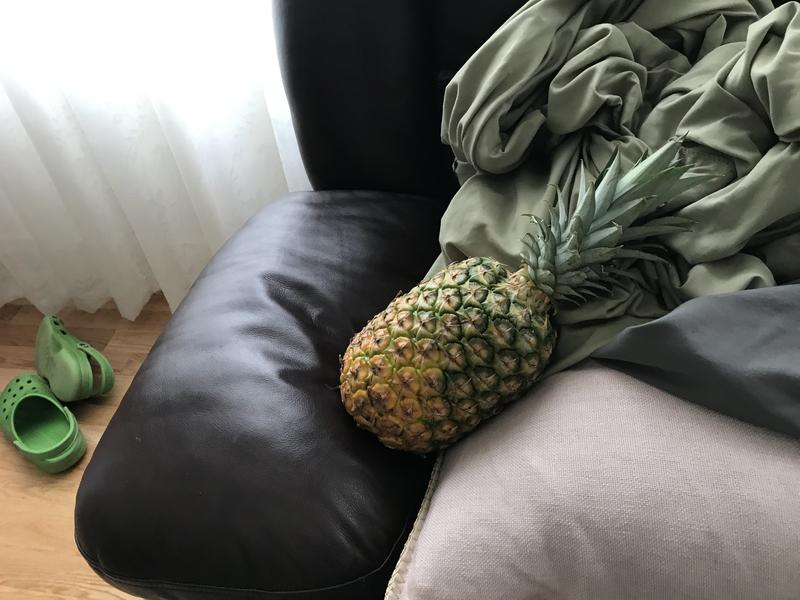pineapple: (329, 123, 730, 459)
